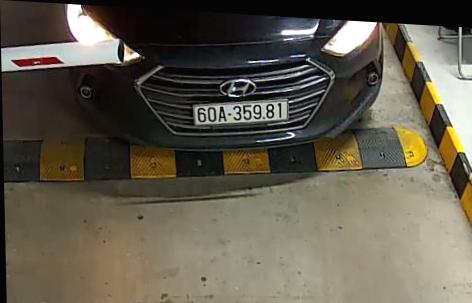License_Plate: (191, 98, 296, 126)
